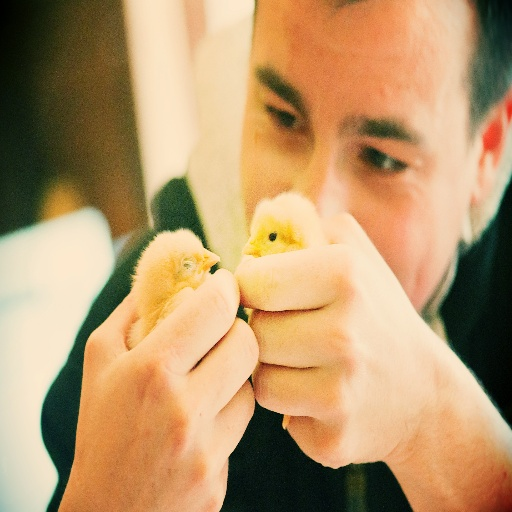hand: (54, 238, 263, 512), (232, 208, 436, 475)
